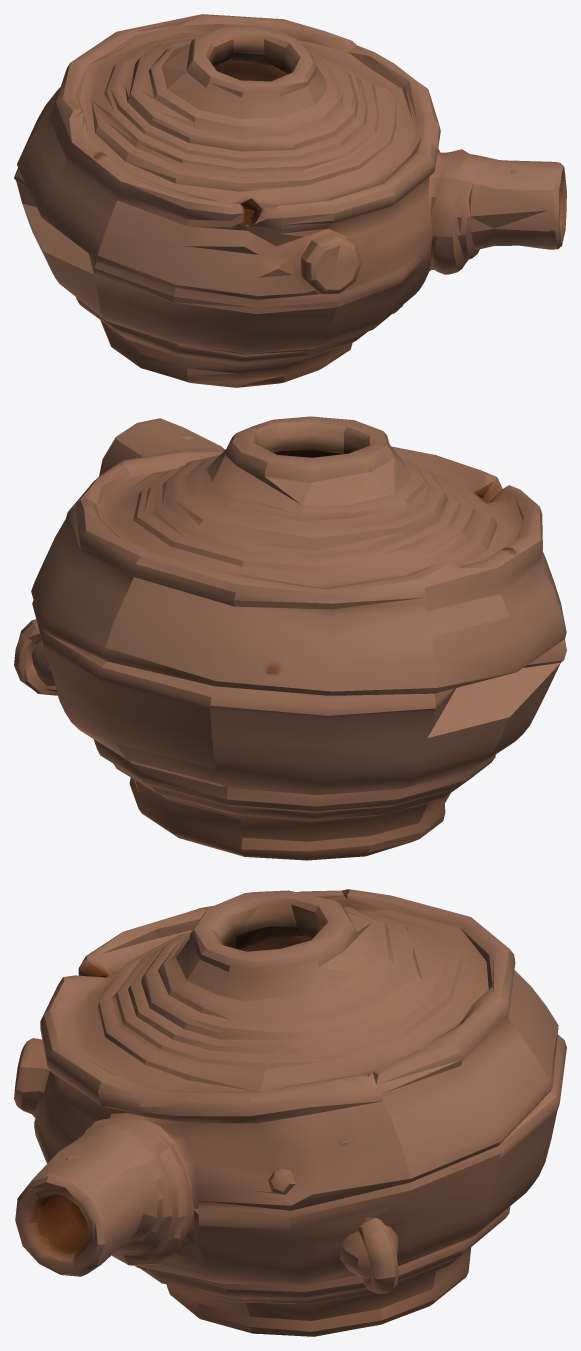
Rendered from item_oil_lamp.glb.
3 views of the same model, one above another, from view 1: azimuth 30°, elevation 25°; view 2: azimuth 150°, elevation 25°; view 3: azimuth 270°, elevation 25° (orthographic). The views are drawn at different scales.
Parts seen in each view (by area): view 1: item_oil_lamp; view 2: item_oil_lamp; view 3: item_oil_lamp.
Part boxes in pixels (box(x1,y1,x2,y2)): item_oil_lamp: box(14, 14, 566, 387); item_oil_lamp: box(14, 416, 566, 860); item_oil_lamp: box(14, 889, 566, 1336).
Bounding box in the file's own units: 0.17 × 0.1128 × 0.1534.
Materials: 1 (1 with a texture image).
